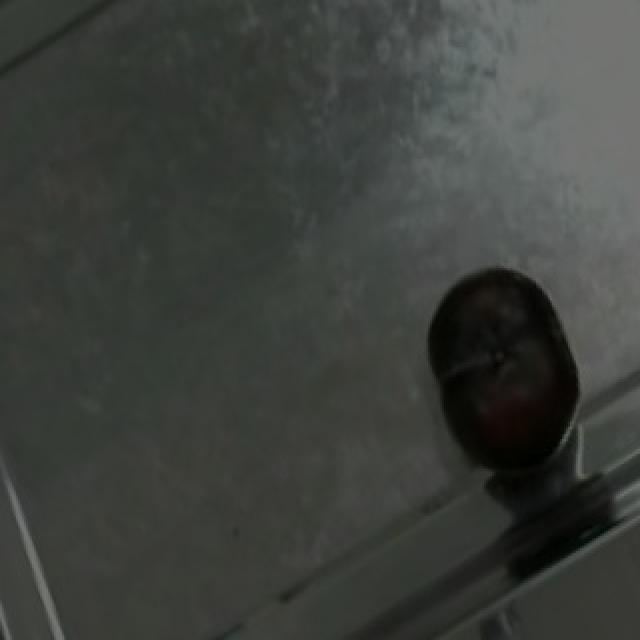Fruit: (428, 290, 602, 489)
